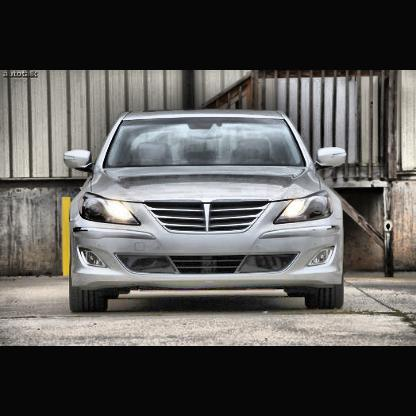Hyundai Genesis Sedan 2012: (66, 112, 348, 312)
